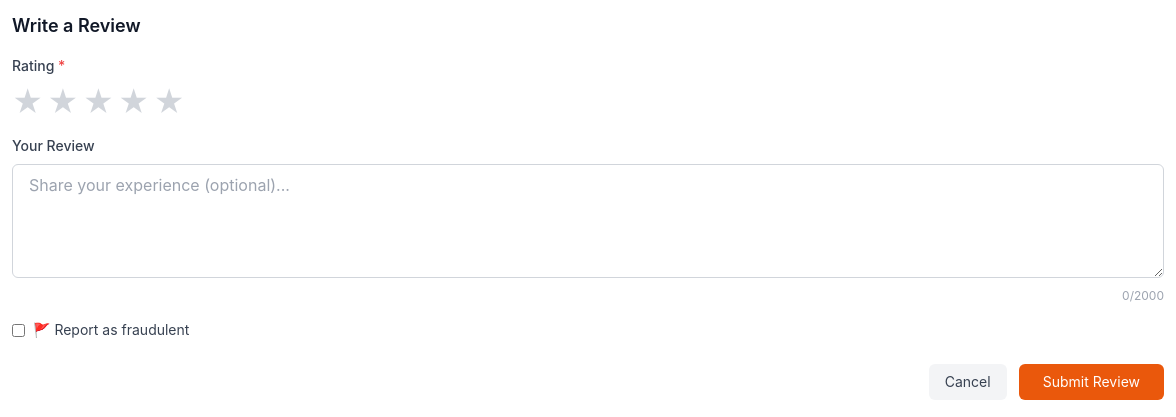
Test: ReviewForm › Star Rating › allows changing the rating
Click the radio button named "3 stars": coordinates (98, 102) [83, 84, 114, 120]
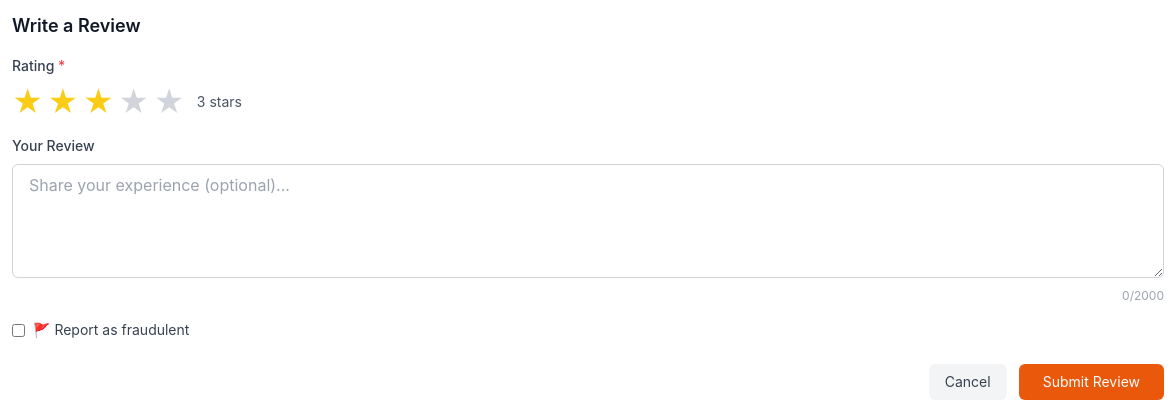
Result: the text "3 stars" is shown at [197, 92, 242, 112]
Click the radio button named "5 stars": coordinates (169, 102) [153, 84, 185, 120]
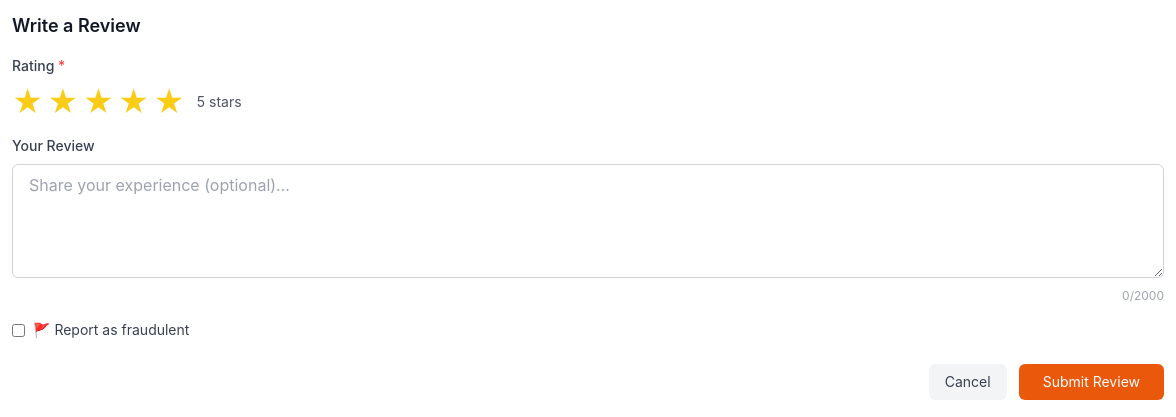
Result: the text "5 stars" is shown at [197, 92, 242, 112]
